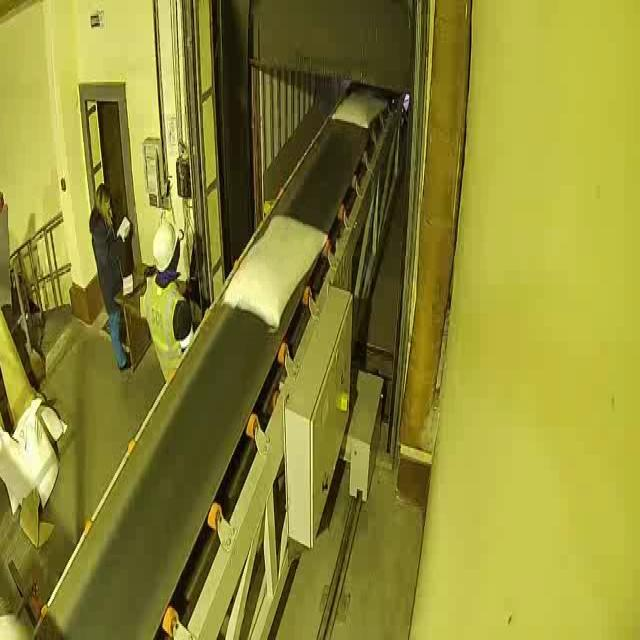bag: (222, 213, 325, 329), (334, 89, 388, 130)
